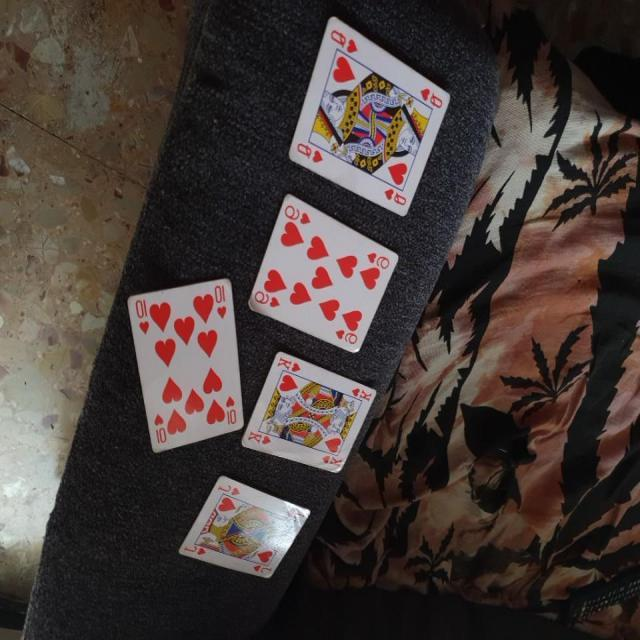10 of hearts: (119, 281, 247, 472)
9 of hearts: (242, 184, 412, 354)
jack of hearts: (170, 470, 312, 587)
king of hearts: (238, 348, 380, 476)
queen of hearts: (285, 7, 457, 221)
